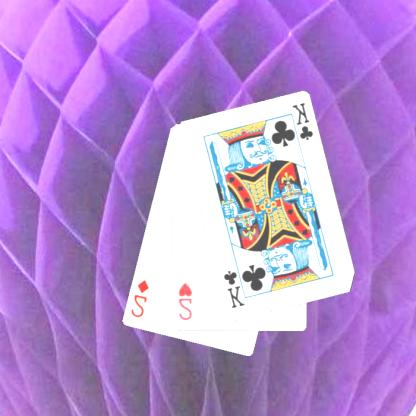2D: (130, 277, 152, 319)
2H: (177, 280, 195, 322)
KC: (222, 262, 250, 310), (288, 100, 316, 148)
